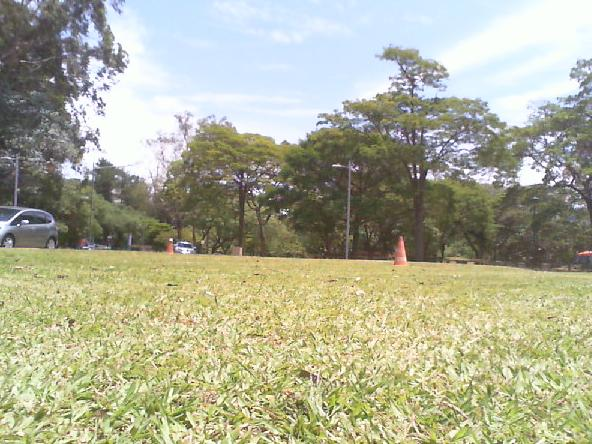0 cone: (393, 236, 408, 266)
